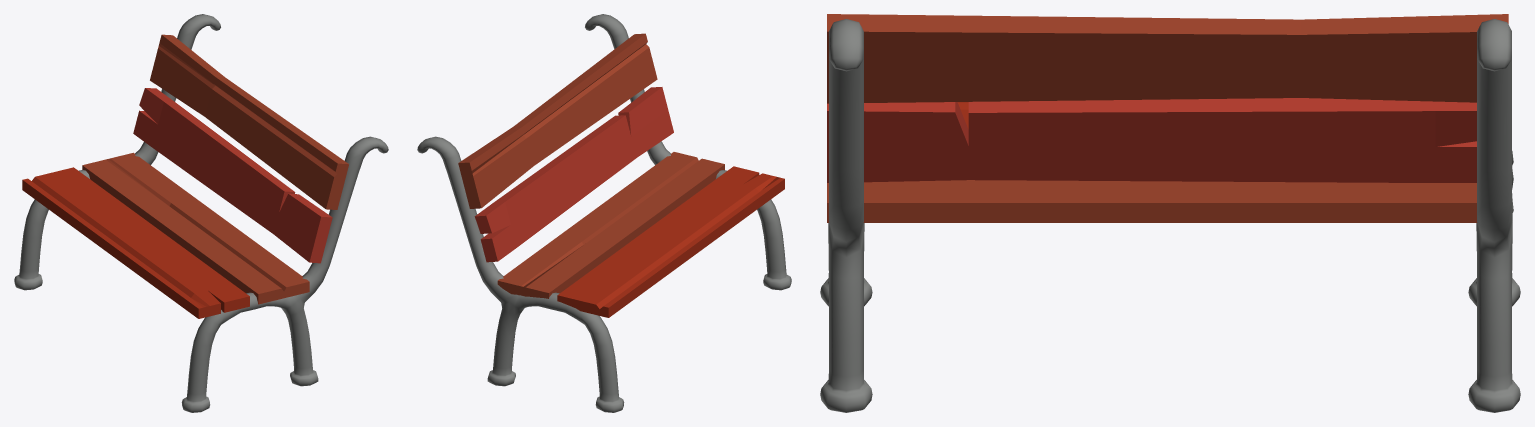
Rendered from SM_Sitzbank.fbx.
The picture shows the model from 3 angles, left to right: view 1: azimuth 30°, elevation 25°; view 2: azimuth 150°, elevation 25°; view 3: azimuth 270°, elevation 25°; orthographic projection. The views are drawn at different scales.
Parts seen in each view (by area): view 1: Sitzbank.001; view 2: Sitzbank.001; view 3: Sitzbank.001.
Part boxes in pixels (x1,y1,x2,y2): Sitzbank.001: (14, 14, 388, 412); Sitzbank.001: (417, 14, 791, 412); Sitzbank.001: (820, 14, 1520, 412).
Bounding box in the file's own units: 109 × 117 × 168.
